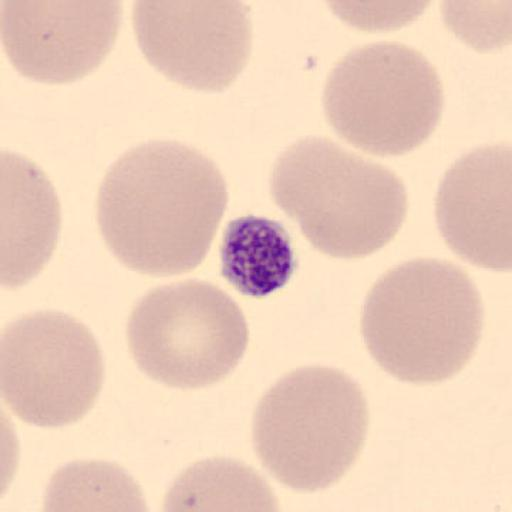Platelet: (218, 212, 300, 299)
RBC: (92, 136, 230, 281), (267, 132, 410, 262), (250, 360, 372, 496), (360, 256, 486, 386), (319, 38, 446, 158), (124, 277, 252, 392), (2, 305, 106, 431), (129, 0, 256, 95), (432, 139, 512, 273), (2, 0, 125, 86), (1, 147, 64, 293), (157, 453, 285, 512), (39, 457, 153, 512), (313, 0, 438, 35), (438, 0, 512, 54), (0, 398, 21, 509)
